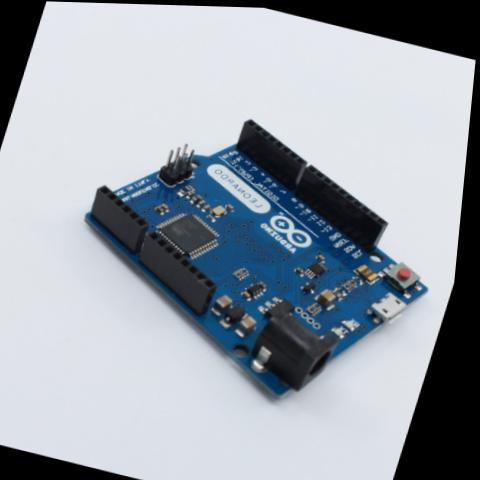Arduino-Leonardo: (41, 83, 474, 430)
